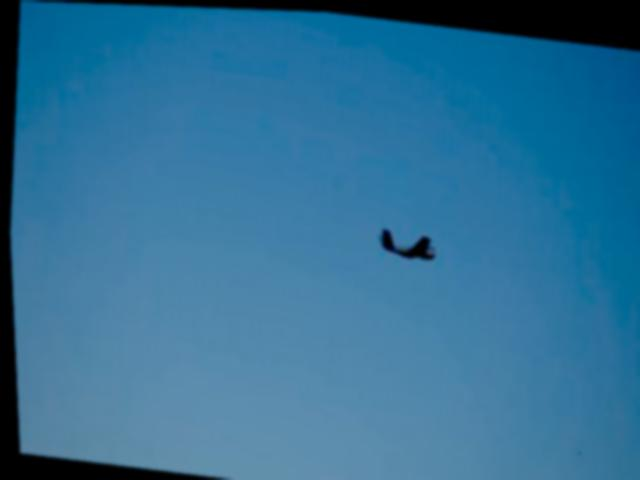uav: (366, 211, 444, 269)
